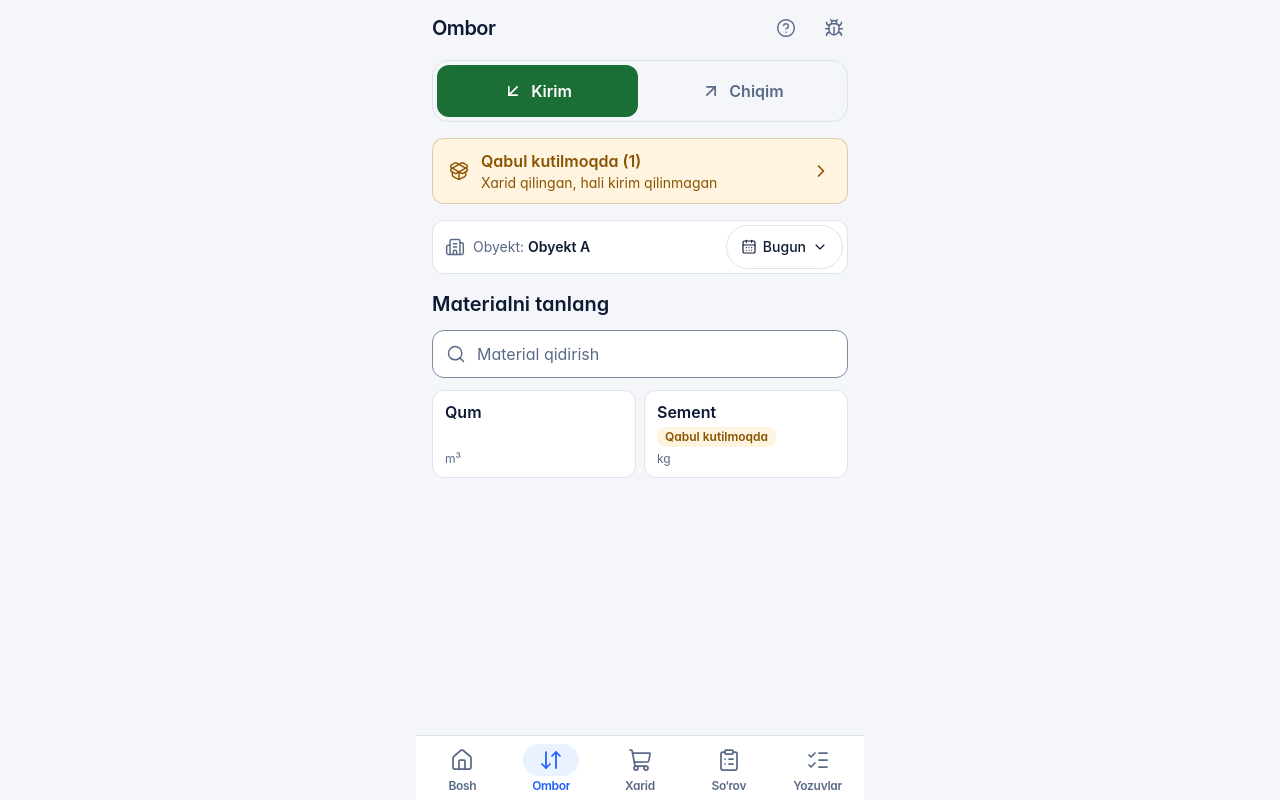
Test: T2 — Xarid → Kirim › "Qabul kutilmoqda (N)" — kirim tomonida; qator tanlansa kirim oldindan to'ldiriladi; plitkada belgi
What coordinates should you click on to do the following:
click the button with test id "pending-receipts"
I would click on:
 (640, 171)
Its box is [432,138,848,204].
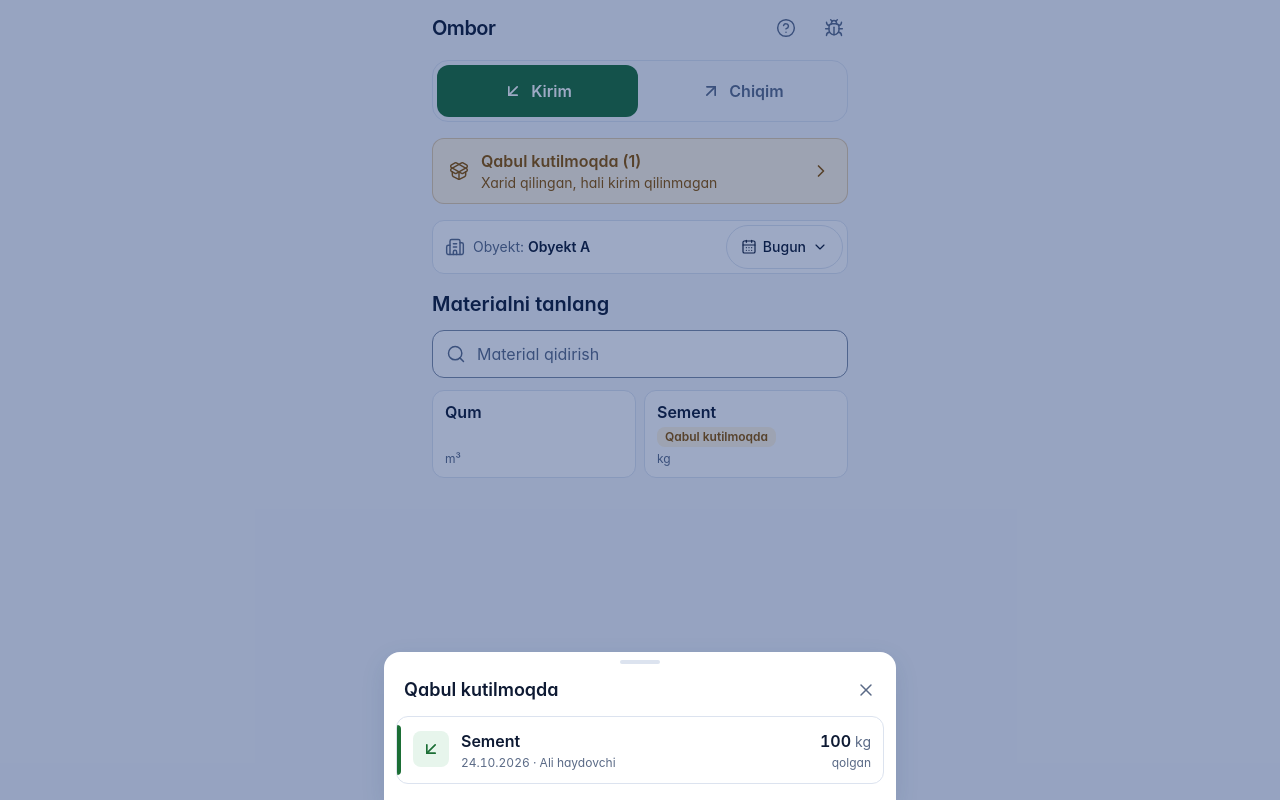
What coordinates should you click on to do the following:
click the button "Sement 24.10.2026 · Ali haydovchi 100 kg qolgan"
I would click on:
 (431, 749)
Its box is [397,717,883,783].
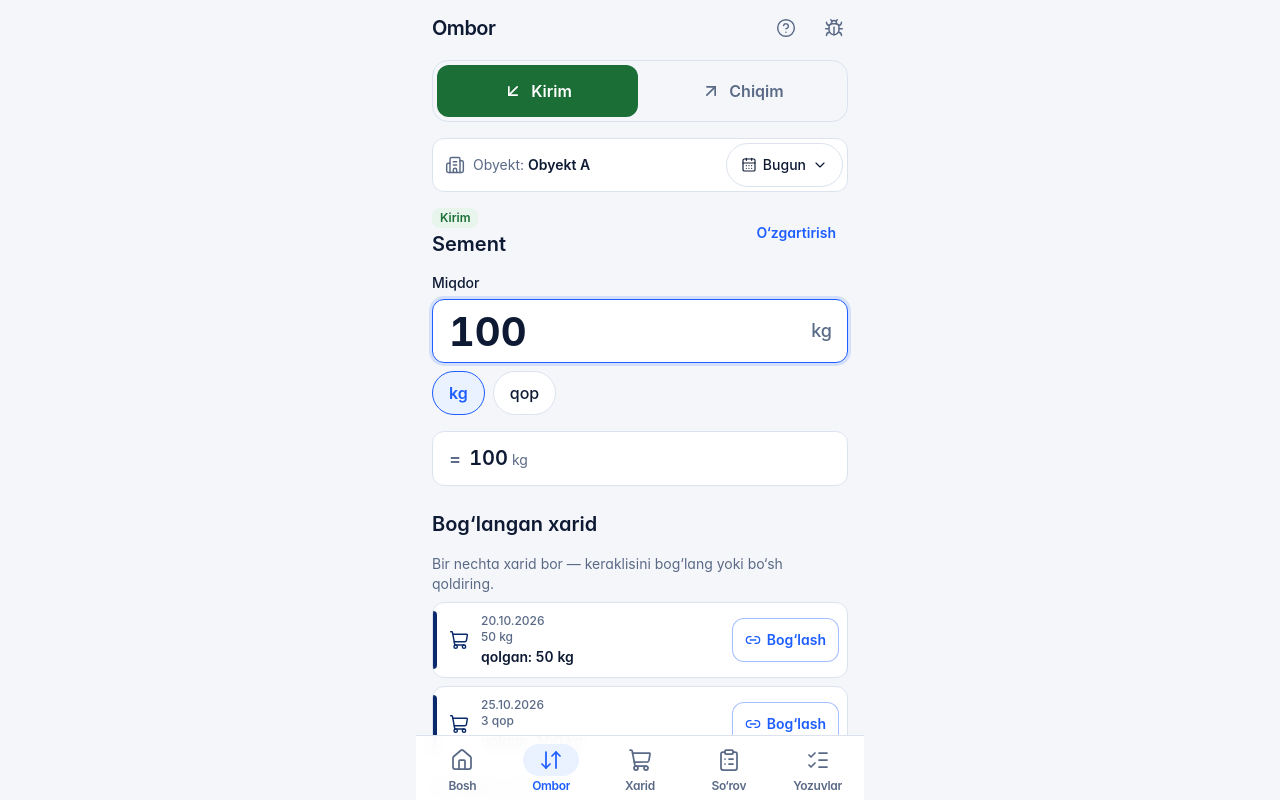
Check: the field labelled "Miqdor" holds "100", box [432,299,848,363]
What coordinates should you click on to do the following:
click the button "O‘zgartirish"
I would click on:
 (796, 232)
Its box is [744,210,848,254].
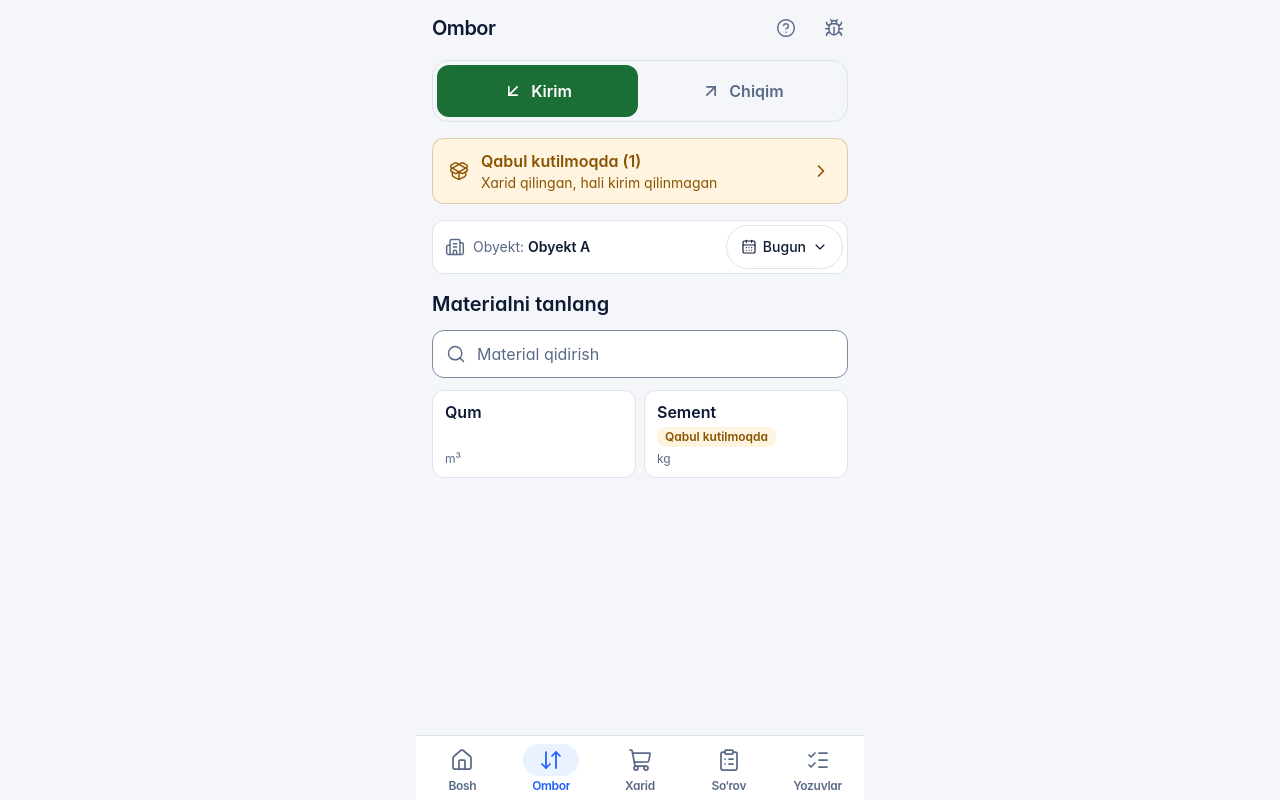
What coordinates should you click on to do the following:
click the button "Chiqim"
I would click on:
 (742, 91)
Its box is [642,65,843,117].
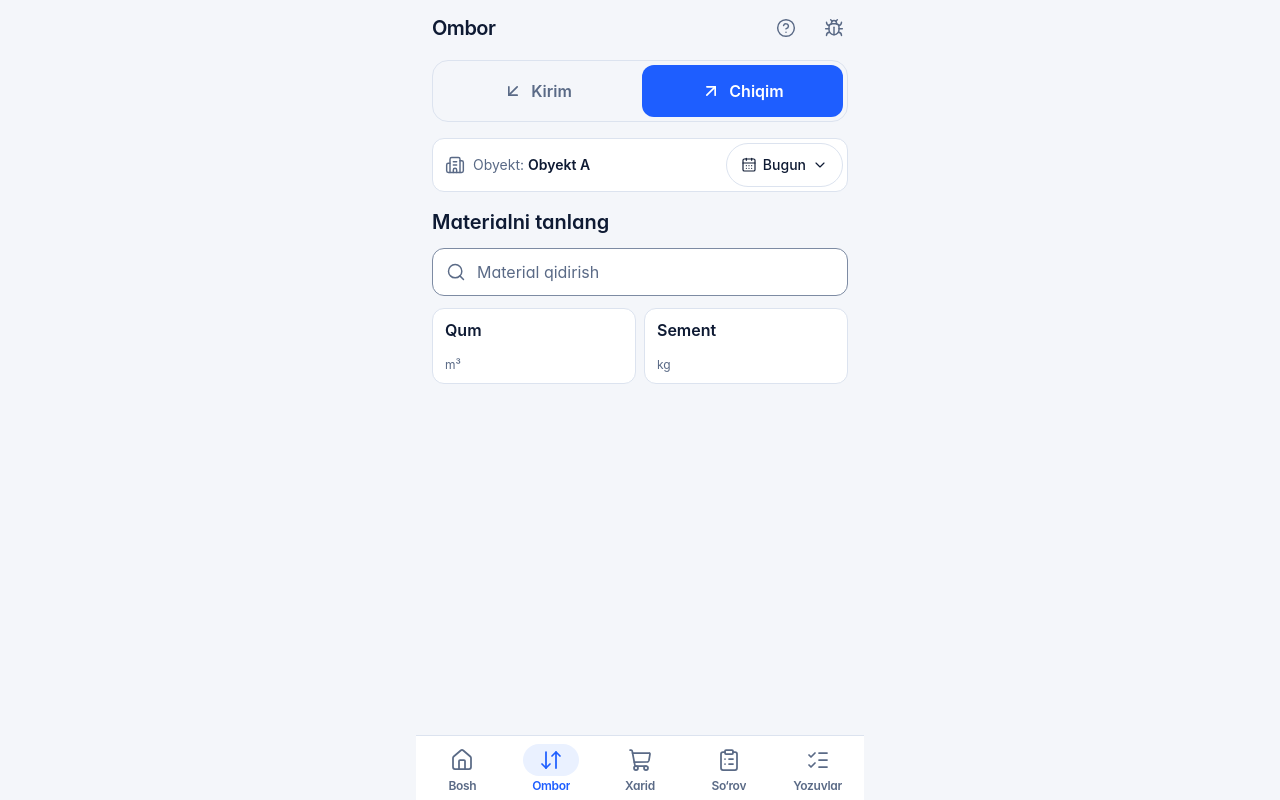
Check: the button with test id "pending-receipts" is gone
